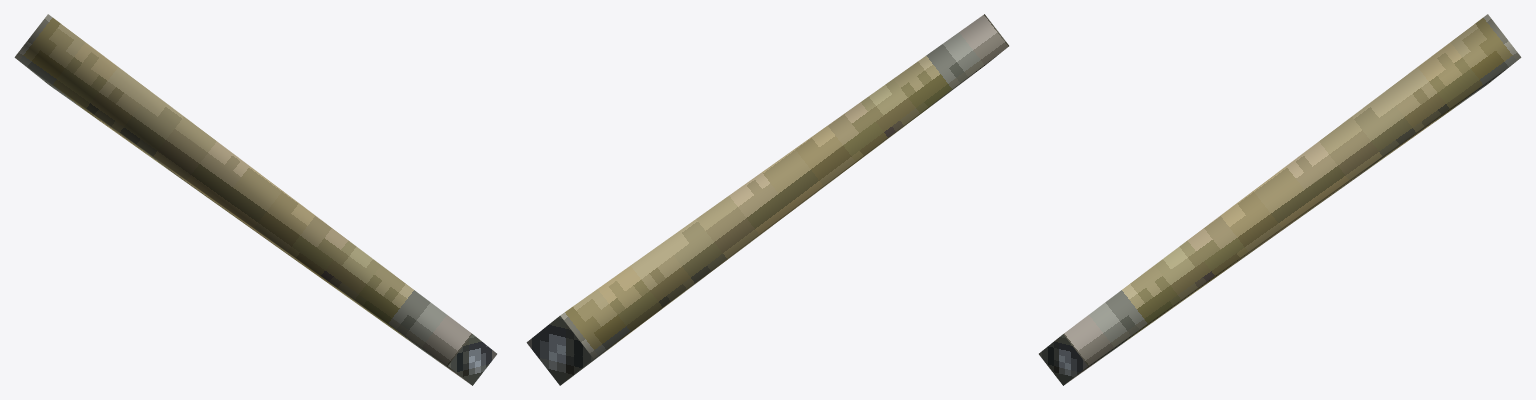
File: wp_scope_ld1_l2.fbx
3 views of the same model, side by side, from view 1: azimuth 30°, elevation 25°; view 2: azimuth 150°, elevation 25°; view 3: azimuth 330°, elevation 25° (orthographic).
Parts seen in each view (by area): view 1: mesh_node; view 2: mesh_node; view 3: mesh_node.
Part boxes in pixels (<box>): mesh_node: <box>14,14,496,385</box>; mesh_node: <box>526,14,1008,385</box>; mesh_node: <box>1039,14,1521,385</box>.
Size of the model in its own units: 0.0286 by 0.0286 by 0.3129.
